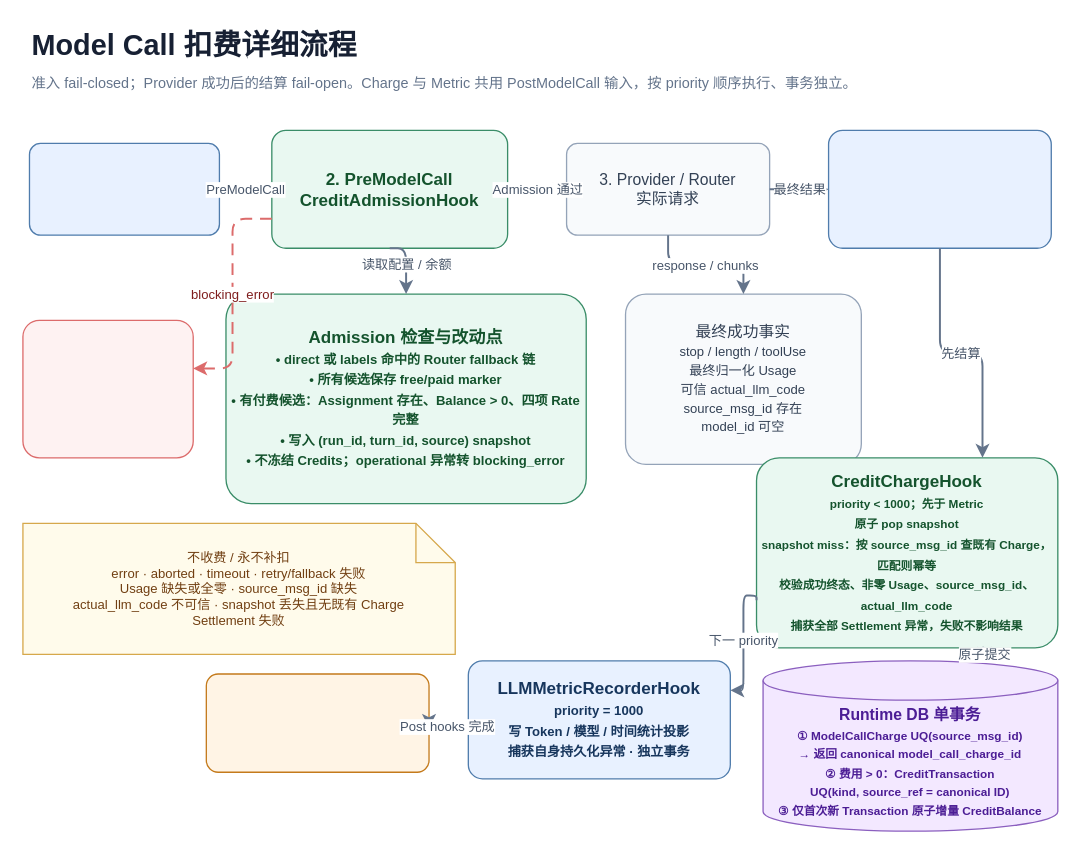
Some shapes in this 1087 by 854 pixel diagram are drawn without their labels. The shapes that lost their labels are listed below. From the top down, each one's centre as x and y in pixels, then its label:
the point at 123,188: 1. Agent Loop 准备 Model Call
the point at 939,188: 4. ModelCallEndEvent PostModelCall
the point at 107,388: Admission 拒绝 blocking_error Provider 不发请求 Run 进入 error
the point at 317,722: 5. MessageEndEvent Transcript 持久化
